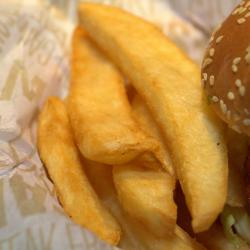fries: (37, 19, 238, 247)
